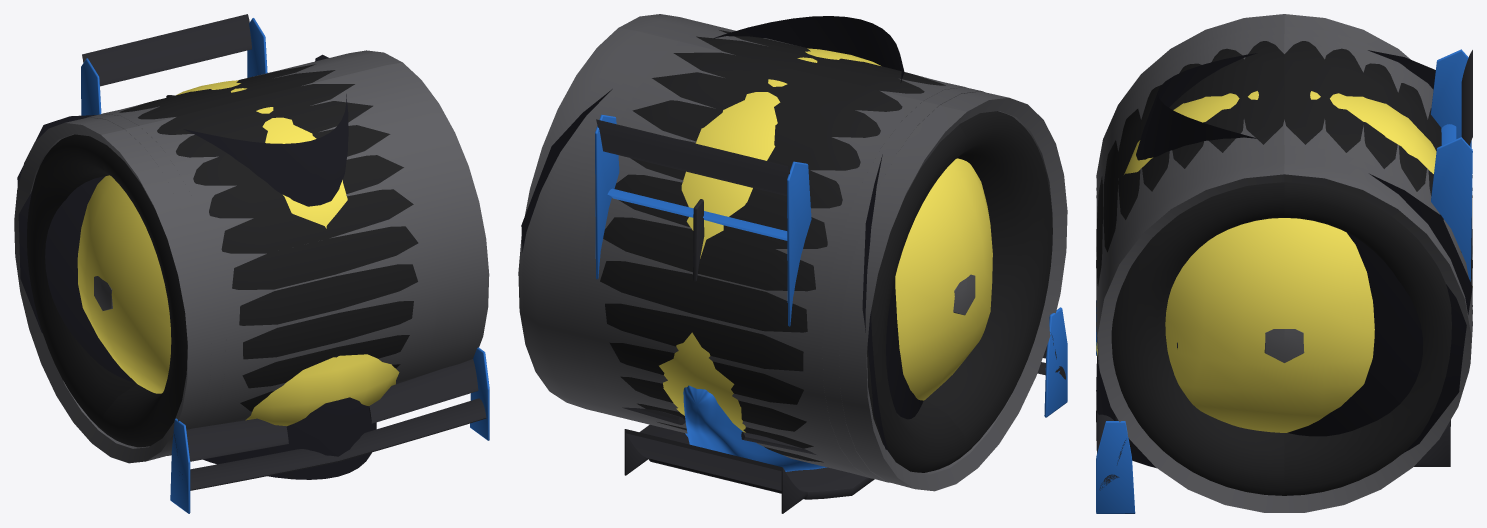
3 renders of one model, left to right at view 1: azimuth 30°, elevation 25°; view 2: azimuth 150°, elevation 25°; view 3: azimuth 270°, elevation 25°, orthographic. The views are drawn at different scales.
Visible parts, largest first — view 1: tyre_FR, rim_FL, helmet, visor, carbon, rim_FR, tyre_FL, rim_RL, rim_RR, tyre_RR, body, tyre_RL; view 2: tyre_RR, helmet, rim_FL, tyre_RL, rim_RL, rim_RR, carbon, rim_FR, body, visor, tyre_FR, tyre_FL; view 3: helmet, tyre_RL, tyre_FL, rim_FR, visor, body, rim_FL, rim_RL, tyre_RR, tyre_FR, rim_RR, carbon.
Part boxes in pixels (left/top/right/bottom): tyre_FR: left=27, top=98, right=357, bottom=447; rim_FL: left=14, top=62, right=436, bottom=462; helmet: left=77, top=80, right=399, bottom=426; visor: left=17, top=54, right=376, bottom=479; carbon: left=82, top=14, right=486, bottom=490; rim_FR: left=96, top=50, right=489, bottom=425; tyre_FL: left=235, top=84, right=418, bottom=384; rim_RL: left=38, top=58, right=450, bottom=463; rim_RR: left=86, top=50, right=410, bottom=455; tyre_RR: left=31, top=87, right=251, bottom=437; body: left=81, top=18, right=489, bottom=513; tyre_RL: left=231, top=64, right=335, bottom=97; tyre_RR: left=692, top=69, right=1052, bottom=472; helmet: left=659, top=48, right=992, bottom=432; rim_FL: left=579, top=27, right=1067, bottom=491; tyre_RL: left=600, top=52, right=791, bottom=430; rim_RL: left=563, top=23, right=1067, bottom=488; rim_RR: left=518, top=20, right=984, bottom=482; carbon: left=596, top=119, right=1065, bottom=513; rim_FR: left=522, top=14, right=972, bottom=478; body: left=595, top=114, right=1067, bottom=471; visor: left=521, top=16, right=923, bottom=454; tyre_FR: left=793, top=57, right=1047, bottom=461; tyre_FL: left=696, top=30, right=816, bottom=68; helmet: left=1096, top=91, right=1472, bottom=432; tyre_RL: left=1124, top=93, right=1472, bottom=495; tyre_FL: left=1096, top=93, right=1444, bottom=495; rim_FR: left=1096, top=34, right=1472, bottom=512; visor: left=1096, top=50, right=1472, bottom=468; body: left=1096, top=49, right=1472, bottom=513; rim_FL: left=1096, top=14, right=1472, bottom=355; rim_RL: left=1096, top=14, right=1472, bottom=362; tyre_RR: left=1284, top=41, right=1472, bottom=263; tyre_FR: left=1096, top=41, right=1284, bottom=263; rim_RR: left=1096, top=26, right=1472, bottom=503; carbon: left=1096, top=50, right=1472, bottom=490.
Bounding box in the file's own units: 65536 × 65534 × 65537.
